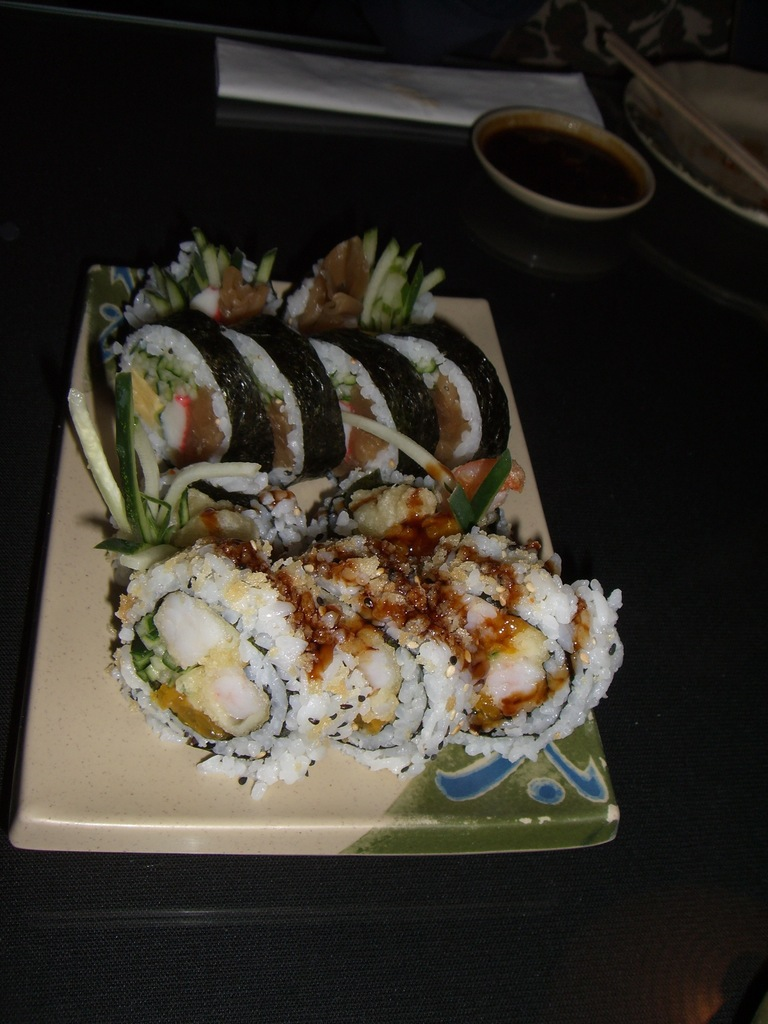sushi: (111, 219, 623, 788), (113, 534, 333, 774), (433, 562, 625, 756)
